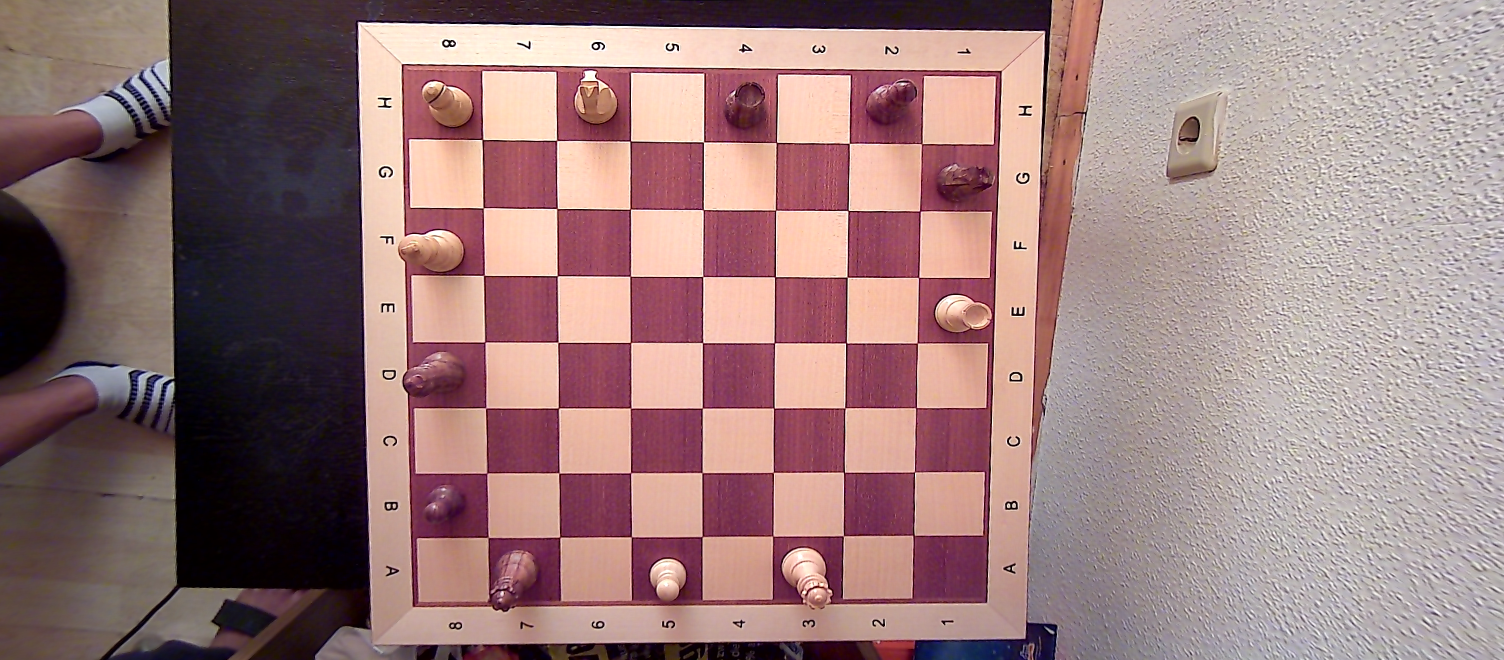black-bishop: (860, 75, 920, 128)
black-king: (400, 347, 471, 399)
black-knight: (931, 158, 996, 207)
black-pawn: (418, 480, 470, 529)
black-queen: (486, 544, 539, 611)
black-rook: (720, 78, 771, 131)
white-bishop: (415, 75, 477, 131)
white-king: (394, 224, 466, 277)
white-knight: (571, 67, 618, 128)
white-pawn: (646, 556, 691, 600)
white-queen: (779, 543, 837, 613)
white-rook: (931, 289, 994, 336)
